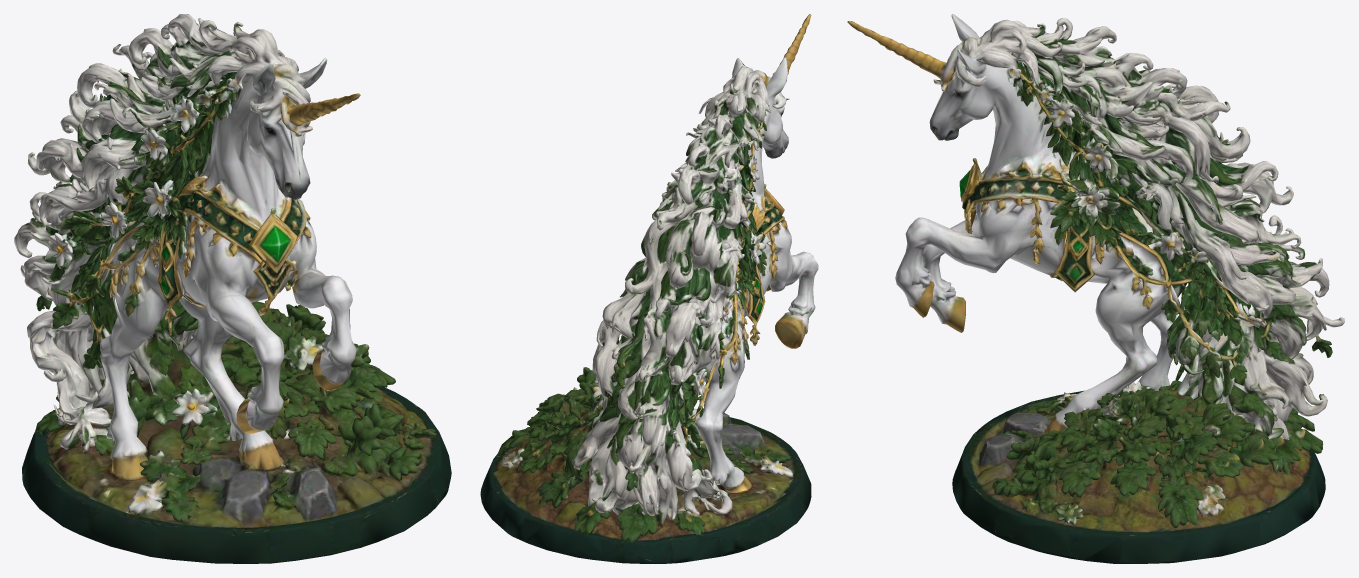
Rendered from unicornKing.glb.
3 renders of one model, left to right at view 1: azimuth 30°, elevation 25°; view 2: azimuth 150°, elevation 25°; view 3: azimuth 270°, elevation 25°, orthographic. The views are drawn at different scales.
Bounding box in the file's own units: 1.43 × 1.88 × 1.9.
1 material, 1 textured.
